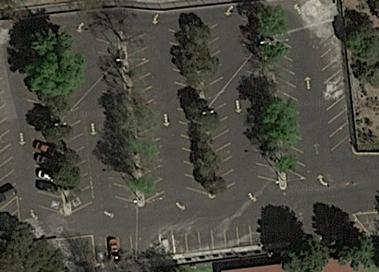parkingspot: (93, 215, 345, 266), (95, 35, 139, 205), (168, 27, 210, 197), (125, 30, 165, 204), (240, 15, 280, 185), (198, 22, 236, 195), (268, 21, 307, 181), (25, 97, 63, 215), (319, 25, 351, 153), (59, 119, 94, 215)
